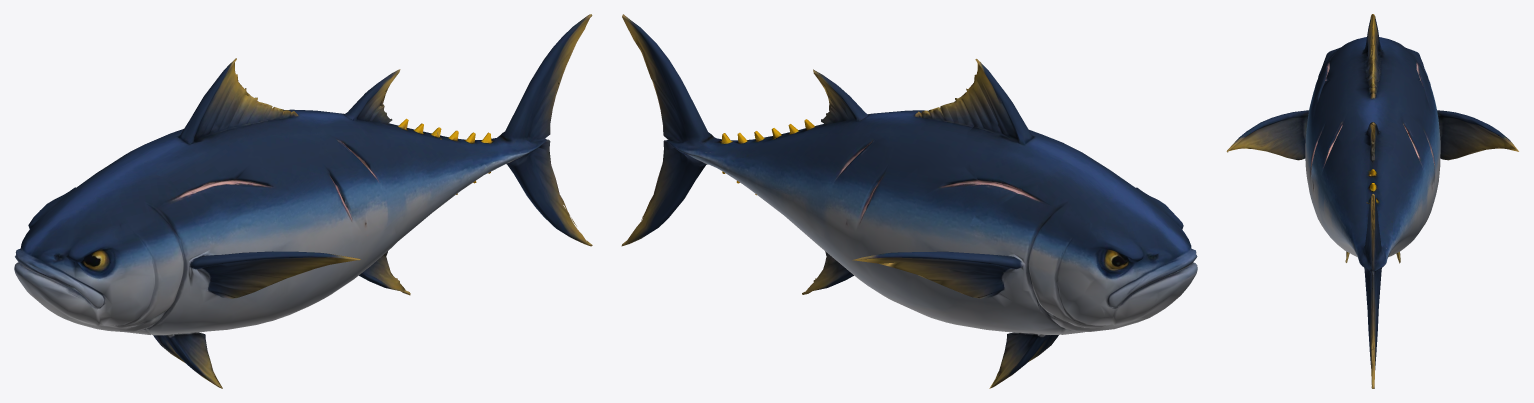
The model's file is fish-gigantun.glb.
The picture shows the model from 3 angles, left to right: view 1: azimuth 30°, elevation 25°; view 2: azimuth 150°, elevation 25°; view 3: azimuth 270°, elevation 25°; orthographic projection. The views are drawn at different scales.
Visible parts, largest first — view 1: tripo_node_d9ddb76b-6c30-4693-9fdd-a88a05051844; view 2: tripo_node_d9ddb76b-6c30-4693-9fdd-a88a05051844; view 3: tripo_node_d9ddb76b-6c30-4693-9fdd-a88a05051844.
Boxes of the visible parts, box(x1,y1,x2,y2) form: tripo_node_d9ddb76b-6c30-4693-9fdd-a88a05051844: box(14, 14, 592, 388); tripo_node_d9ddb76b-6c30-4693-9fdd-a88a05051844: box(621, 14, 1197, 388); tripo_node_d9ddb76b-6c30-4693-9fdd-a88a05051844: box(1226, 14, 1518, 388).
Bounding box in the file's own units: 1 × 0.5192 × 0.5268.
Materials: 1 (1 with a texture image).
